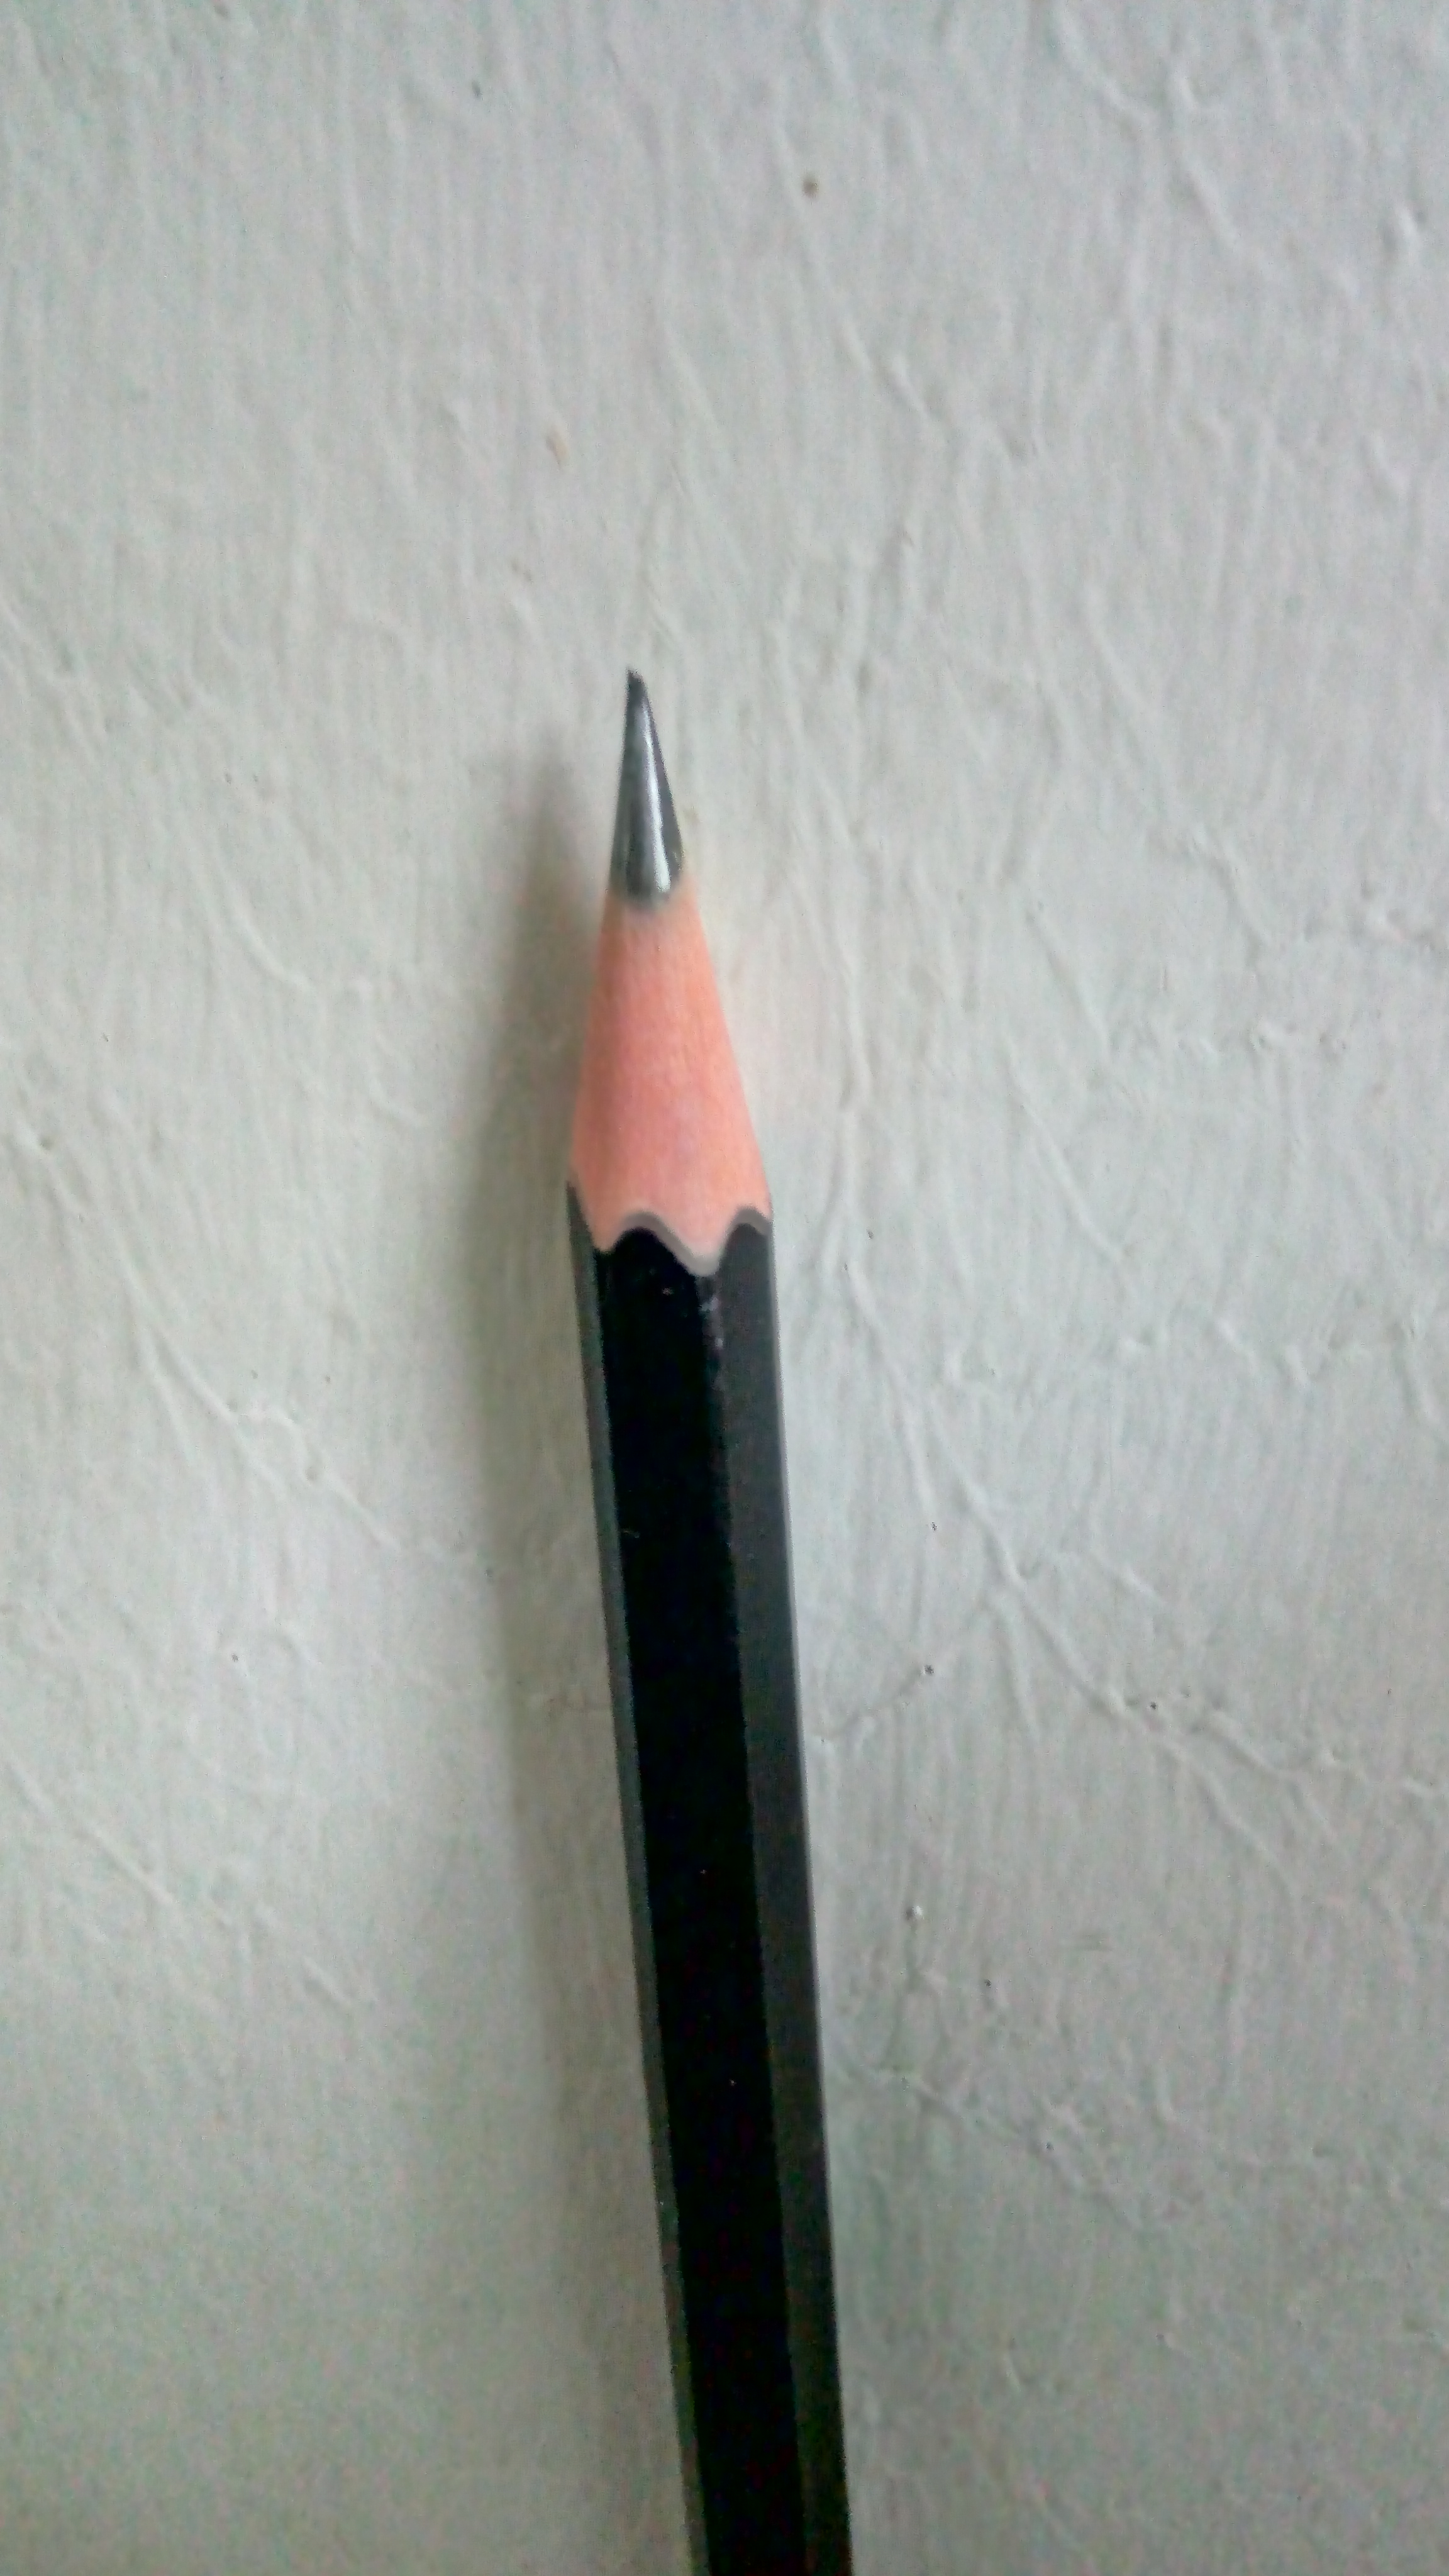pen_tip: (363, 609, 1010, 1346)
